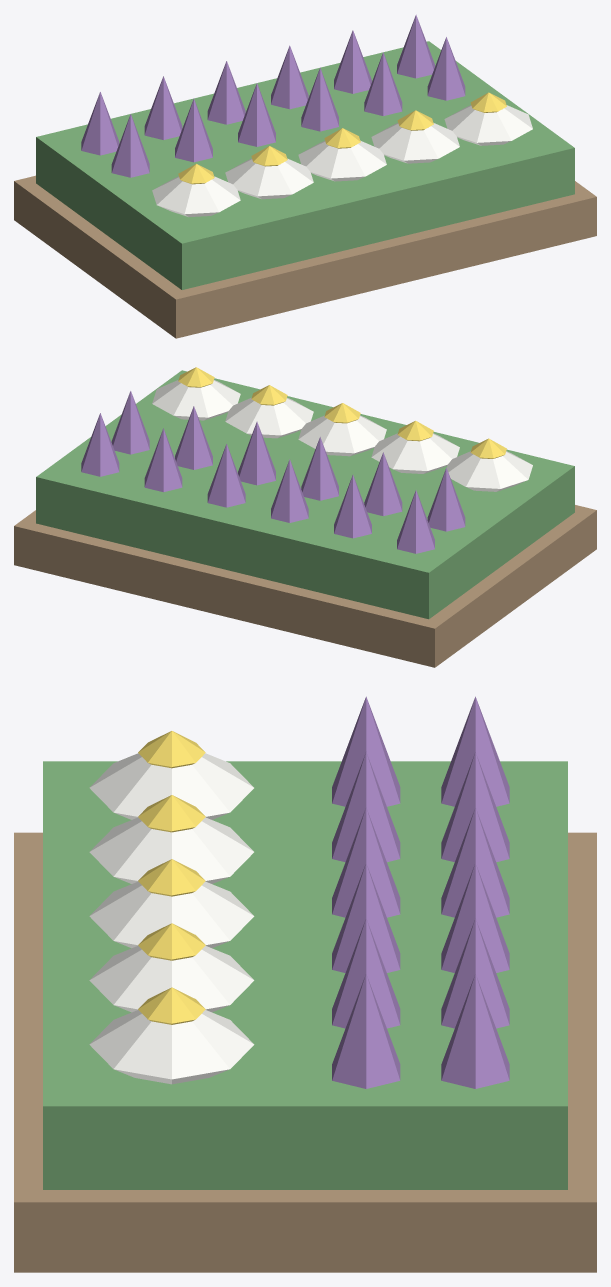
Rendered from flora_18_daisy_cuc_hoa_mi_and_lavender_bed_cluster.glb.
The picture shows the model from 3 angles, top to bottom: view 1: azimuth 30°, elevation 25°; view 2: azimuth 150°, elevation 25°; view 3: azimuth 270°, elevation 25°; orthographic projection. The views are drawn at different scales.
Visible parts, largest first — view 1: flora_18_daisy_cuc_hoa_mi_and_lavender_bed_cluster; view 2: flora_18_daisy_cuc_hoa_mi_and_lavender_bed_cluster; view 3: flora_18_daisy_cuc_hoa_mi_and_lavender_bed_cluster.
Part boxes in pixels (x1,y1,x2,y2): flora_18_daisy_cuc_hoa_mi_and_lavender_bed_cluster: (14, 14, 596, 338); flora_18_daisy_cuc_hoa_mi_and_lavender_bed_cluster: (14, 367, 596, 667); flora_18_daisy_cuc_hoa_mi_and_lavender_bed_cluster: (14, 696, 596, 1272).
Bounding box in the file's own units: 3.6 × 1.15 × 2.4.
